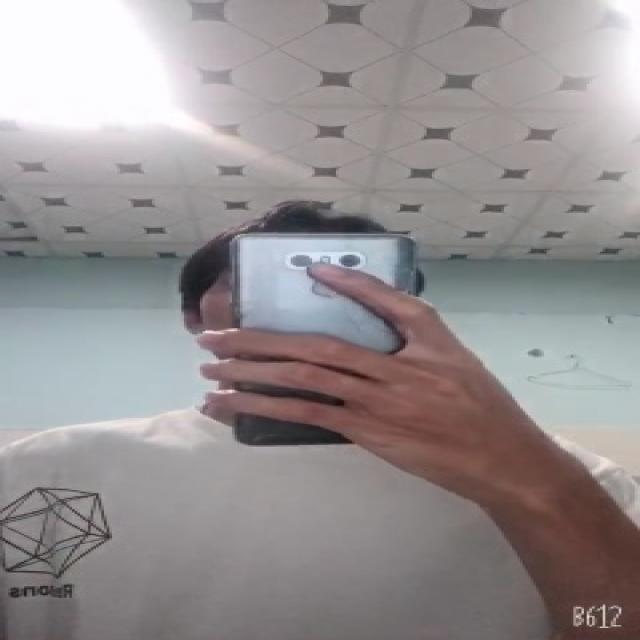Phone: (228, 230, 419, 451)
